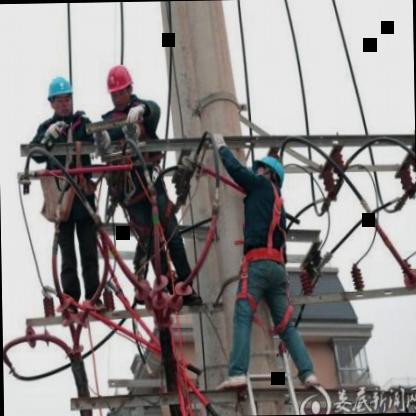helmet: (250, 150, 288, 194), (104, 60, 137, 110), (44, 70, 75, 119)
